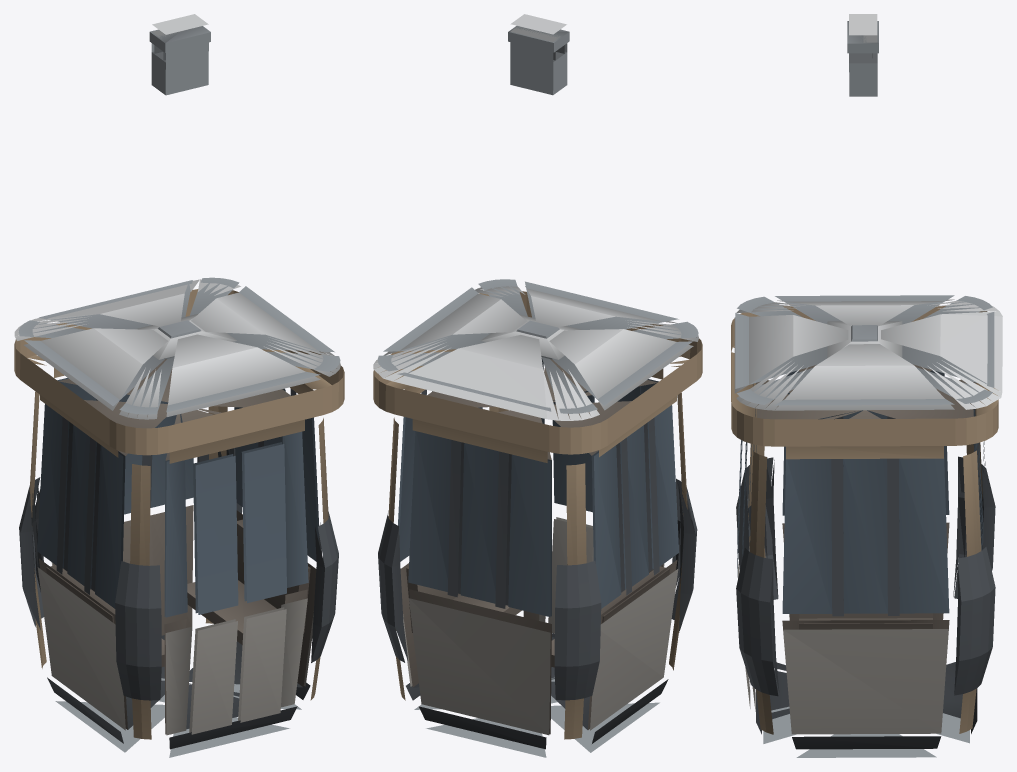
Rendered from gondola.lod.glb.
The picture shows the model from 3 angles, left to right: view 1: azimuth 30°, elevation 25°; view 2: azimuth 150°, elevation 25°; view 3: azimuth 270°, elevation 25°; orthographic projection.
Parts seen in each view (by area): view 1: gondola; view 2: gondola; view 3: gondola.
Boxes of the visible parts, x1,y1,x2,y2 form: gondola: [14, 14, 344, 757]; gondola: [373, 14, 702, 757]; gondola: [731, 14, 1002, 757].
Bounding box in the file's own units: 1.6 × 4.55 × 1.63.
